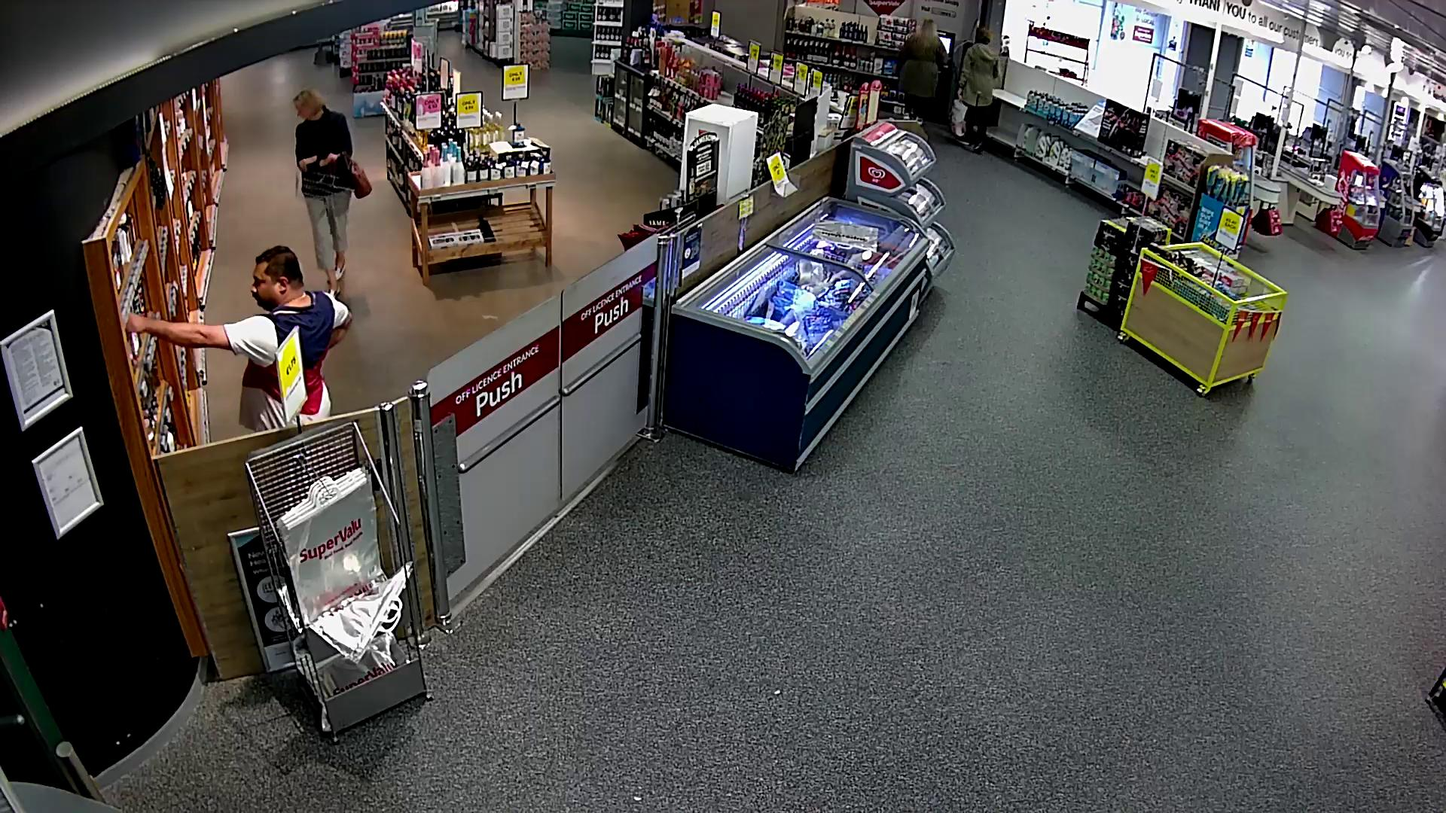backpack-or-handbag: (342, 152, 372, 199)
empty-basket: (296, 166, 344, 206)
person: (293, 88, 353, 297)
person-with-basket-trolly-and-backpack-handbag: (293, 88, 372, 297)
